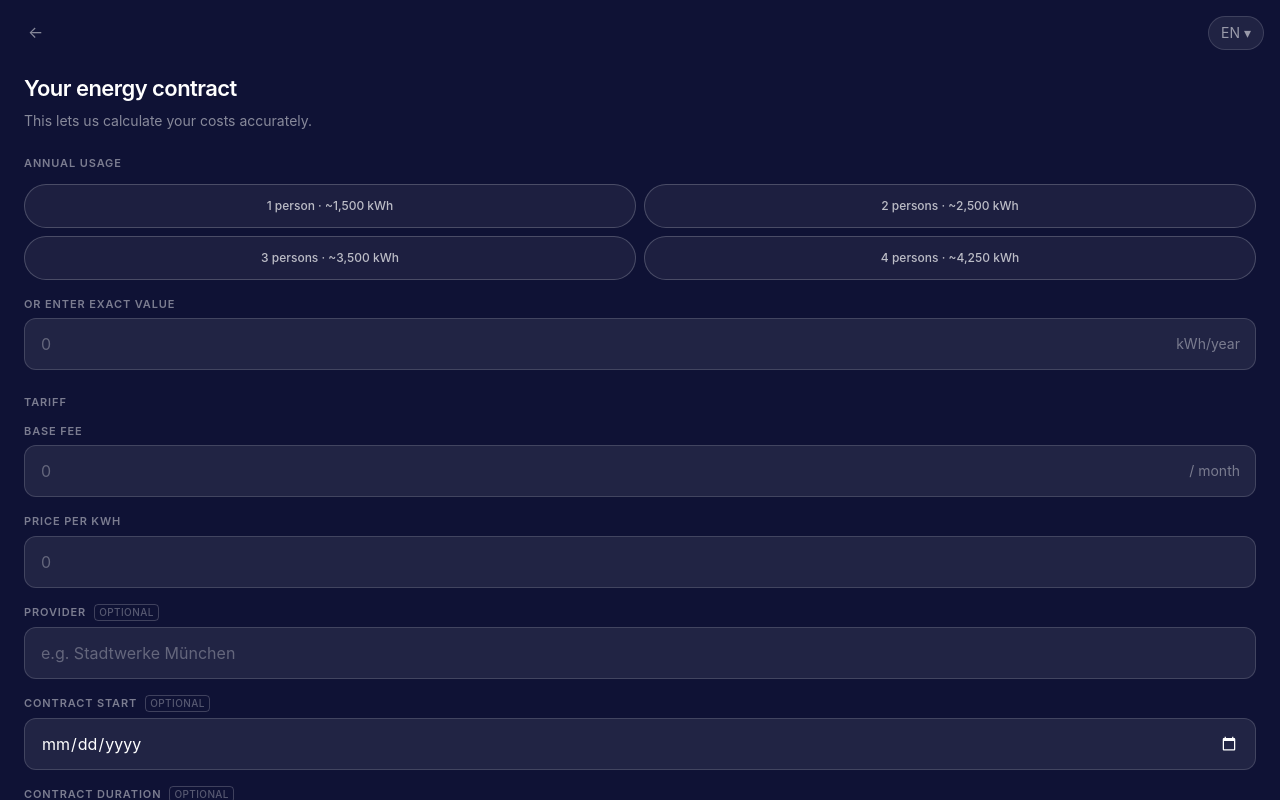
it: OnboardingContract › selecting a preset fills the kWh input
Click the button "2 persons · ~2,500 kWh": (950, 206) [644,184,1256,228]
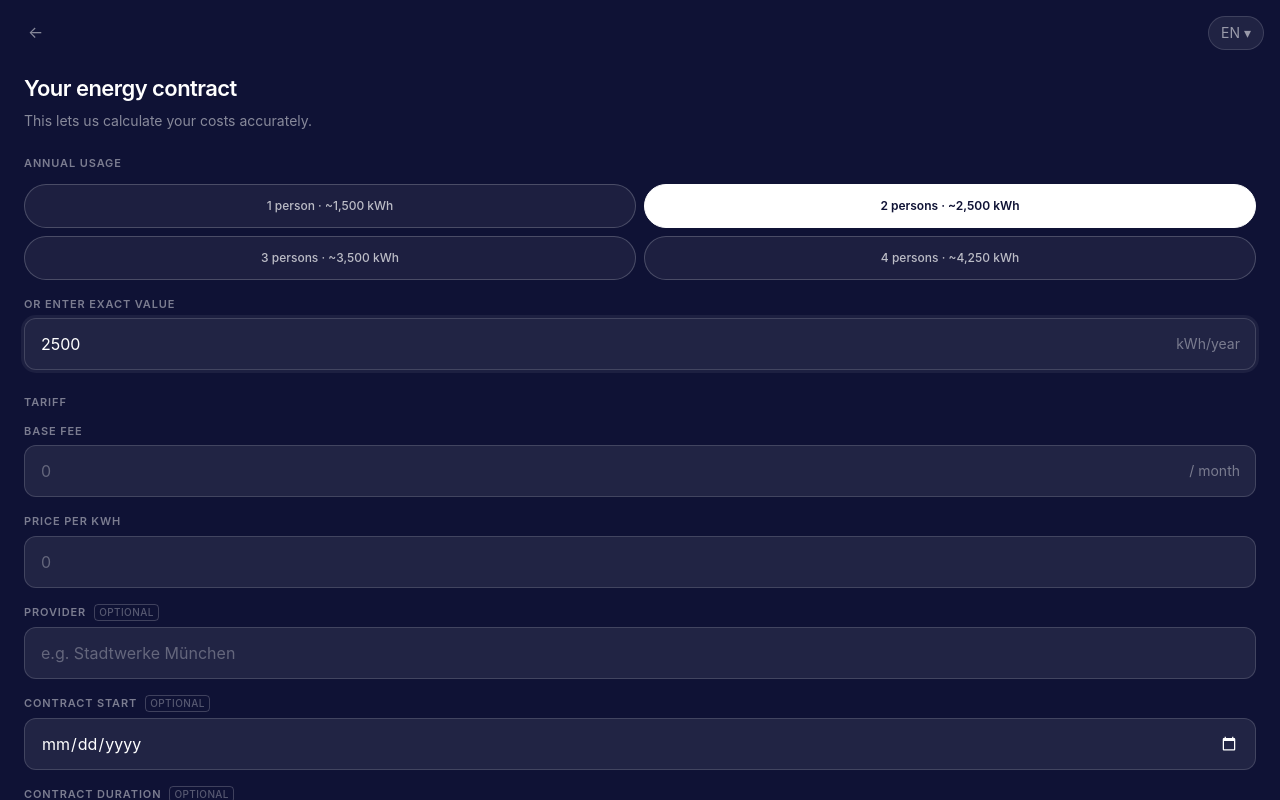
Result: the 1st field holds "2500" at [24,318,1256,370]
